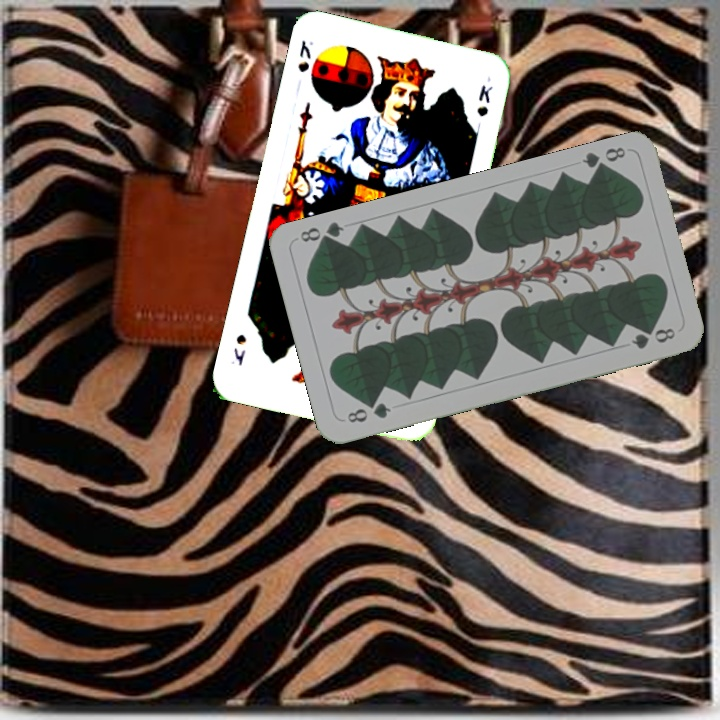G8: (578, 142, 628, 177), (343, 398, 394, 426)
SK: (294, 36, 316, 75)
